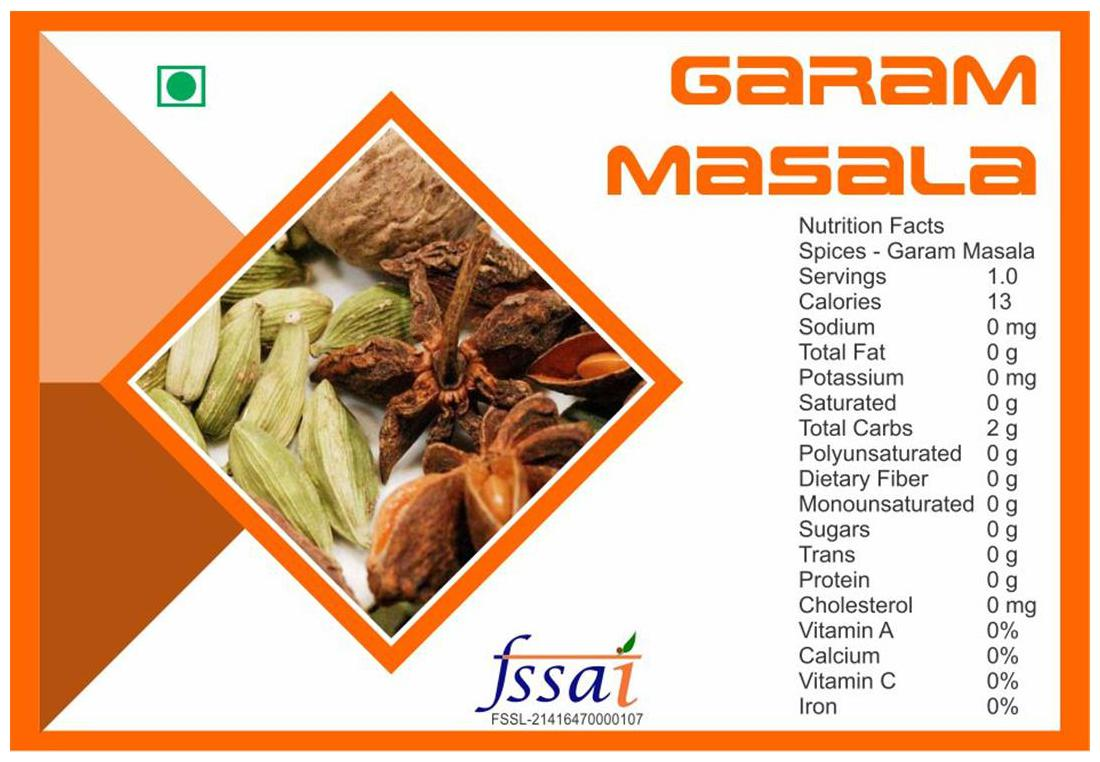fssai: (471, 632, 642, 710)
